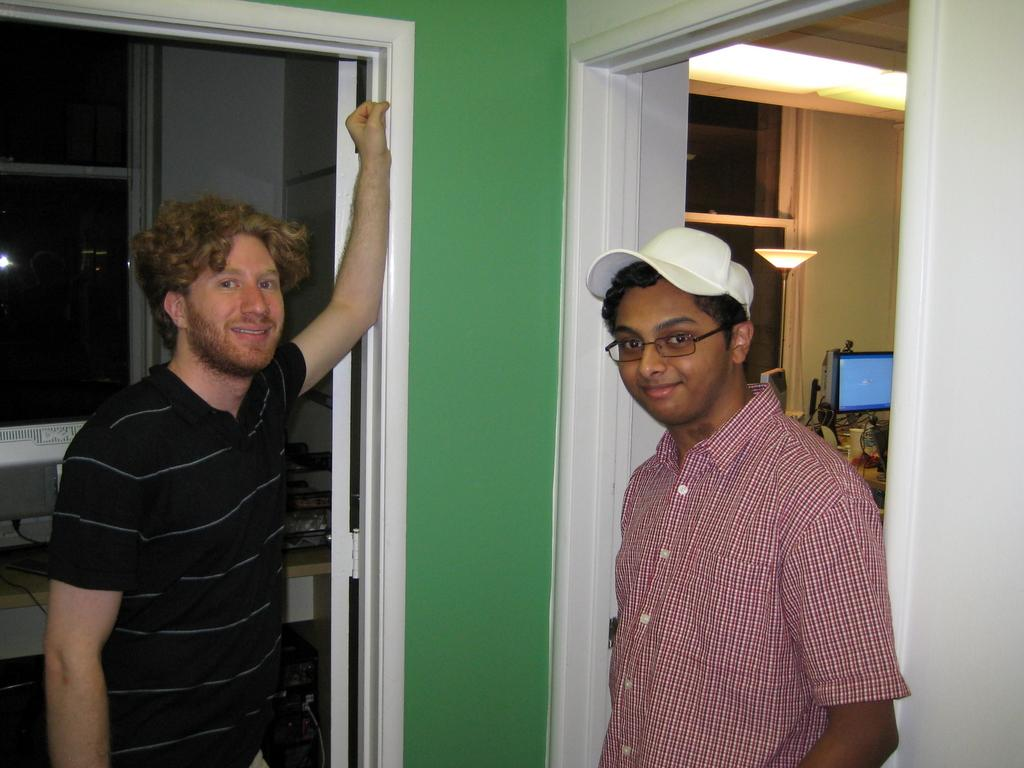Hat: (582, 226, 754, 320)
